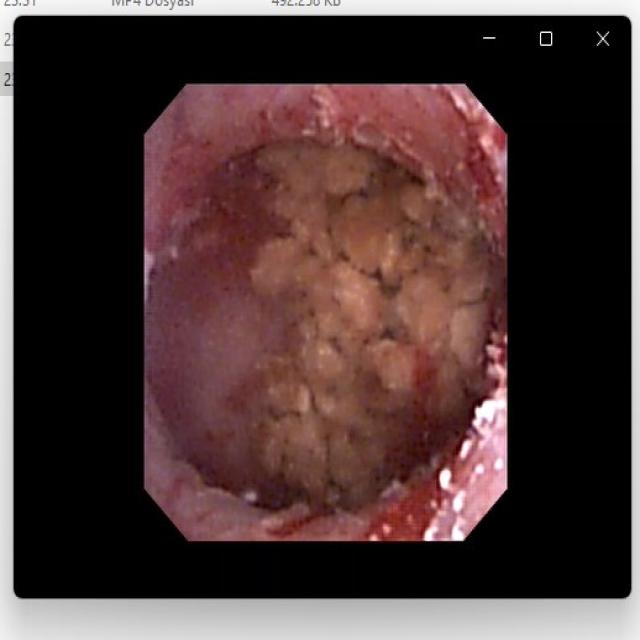stone: (251, 143, 484, 507)
tissue: (152, 90, 500, 536)
